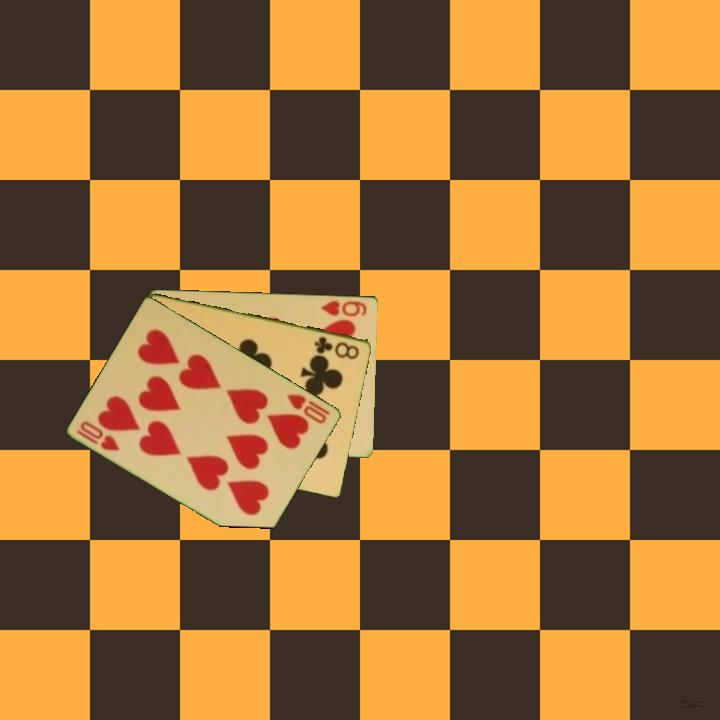10h: (73, 417, 123, 454), (284, 390, 333, 427)
6h: (318, 296, 370, 319)
8c: (311, 332, 362, 362)
